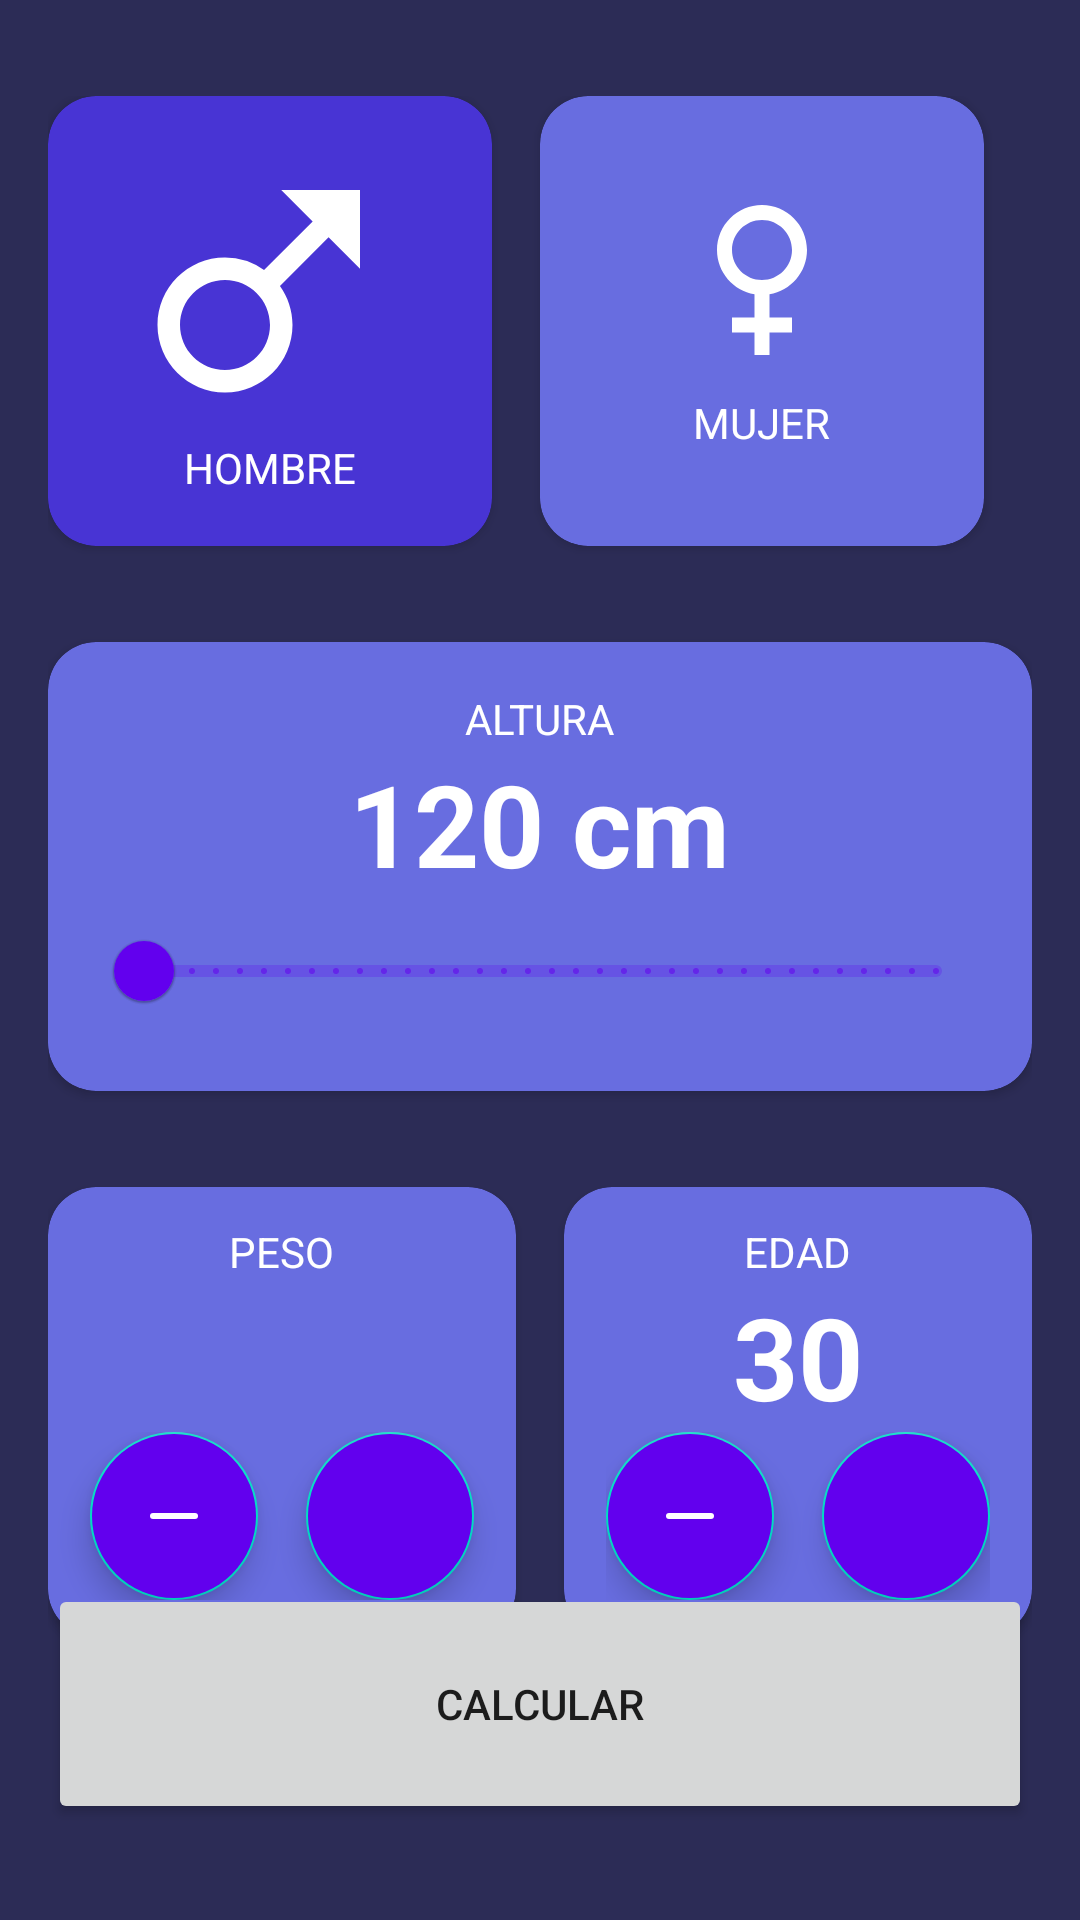

Icon bounding boxes for this 1080px x 1920px phone screenshot, format (x1, y1, x2, y2):
female: (717, 205, 807, 355)
male: (157, 190, 360, 393)
menos: (90, 1432, 258, 1600), (606, 1432, 774, 1600)
